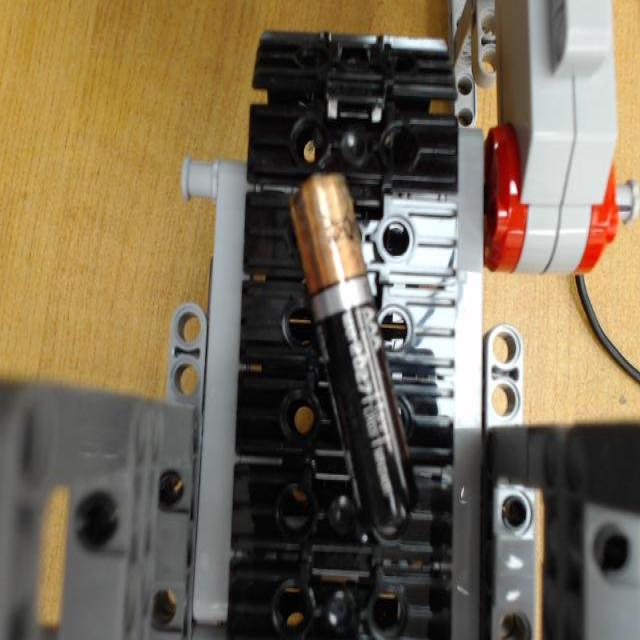AAA: (284, 172, 419, 527)
